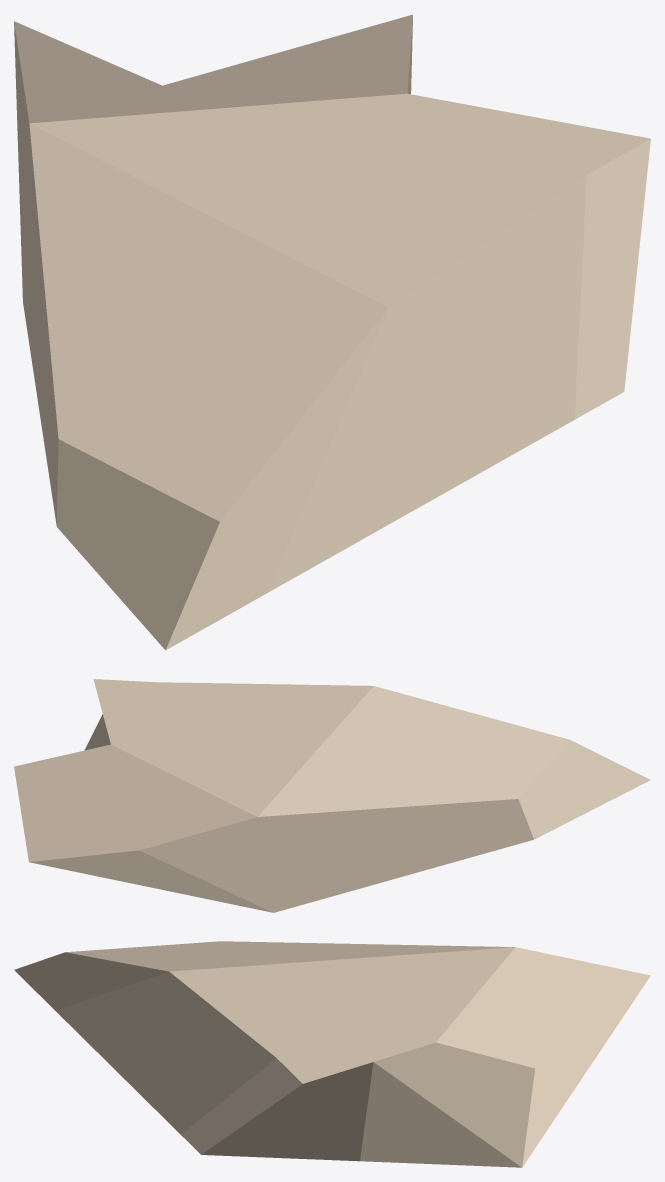
The model's file is Crumble_Ceiling_001.fbx.
3 views of the same model, one above another, from view 1: azimuth 30°, elevation 25°; view 2: azimuth 150°, elevation 25°; view 3: azimuth 270°, elevation 25° (orthographic). The views are drawn at different scales.
Parts seen in each view (by area): view 1: Crumble_Ceiling_001; view 2: Crumble_Ceiling_001; view 3: Crumble_Ceiling_001.
Part boxes in pixels (x1,y1,x2,y2): Crumble_Ceiling_001: (14,14,650,650); Crumble_Ceiling_001: (14,679,650,912); Crumble_Ceiling_001: (14,941,650,1167).
Bounding box in the file's own units: 1.8 × 0.4 × 2.22.
